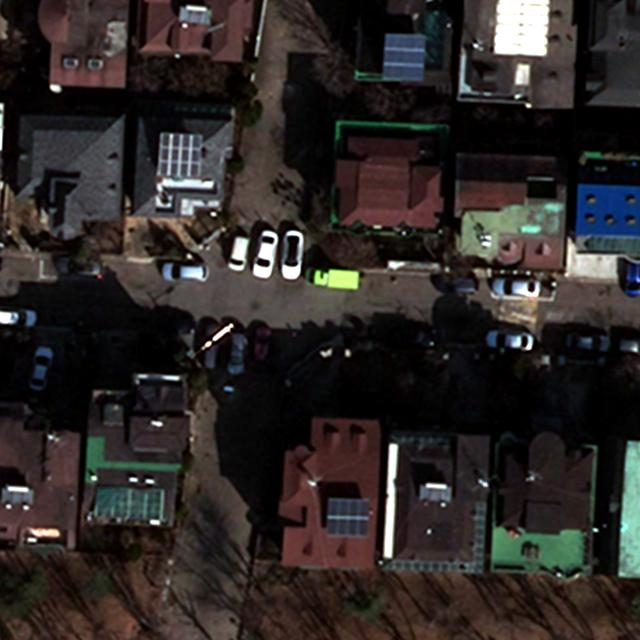panel: (379, 33, 428, 83), (154, 130, 204, 178), (324, 496, 371, 538)
